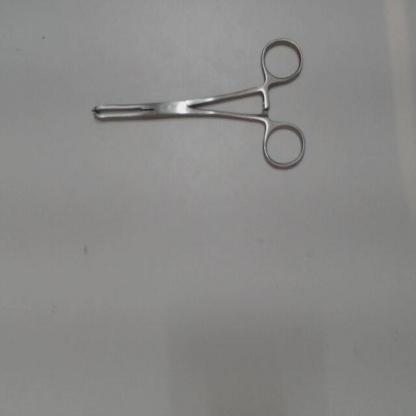Allis Tissue Forceps: (79, 35, 309, 181)
